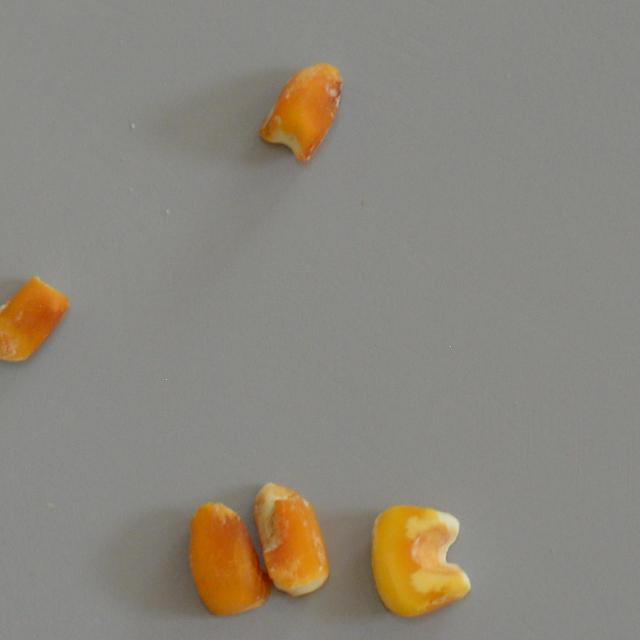dañado: (186, 501, 270, 616), (250, 482, 328, 598), (258, 62, 342, 164), (0, 275, 67, 362)
pelicula: (370, 502, 471, 616)
